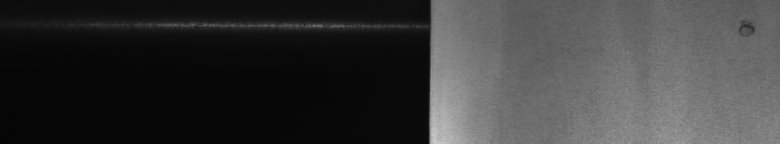fi: (736, 14, 759, 40)
